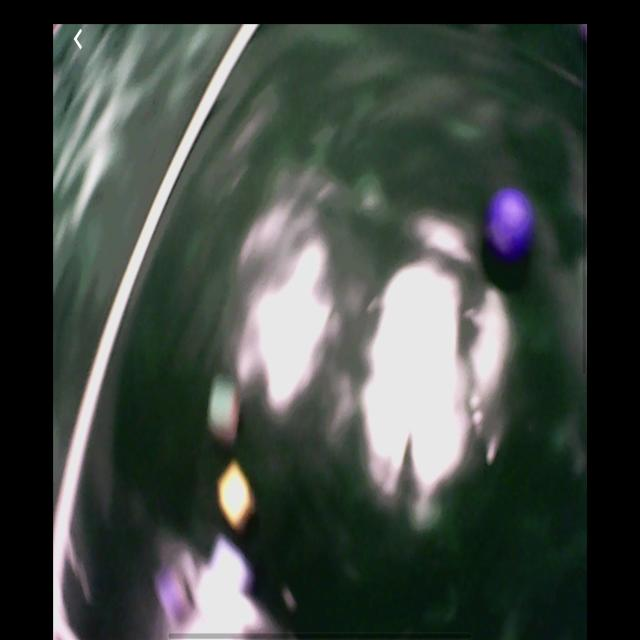ball: (486, 190, 535, 259)
